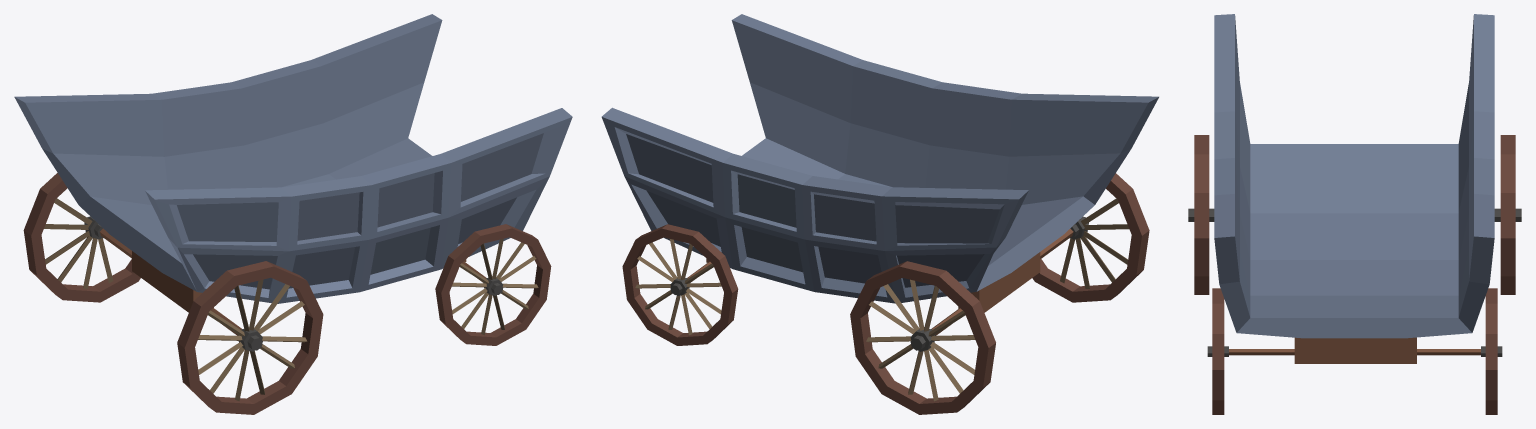
File: wagon.fbx
The picture shows the model from 3 angles, left to right: view 1: azimuth 30°, elevation 25°; view 2: azimuth 150°, elevation 25°; view 3: azimuth 270°, elevation 25°; orthographic projection.
Parts seen in each view (by area): view 1: wagon; view 2: wagon; view 3: wagon.
Boxes of the visible parts, left/top/right/bottom form: wagon: left=14, top=14, right=572, bottom=414; wagon: left=601, top=14, right=1158, bottom=414; wagon: left=1188, top=14, right=1521, bottom=414.
Size of the model in its own units: 383 by 202 by 265.
